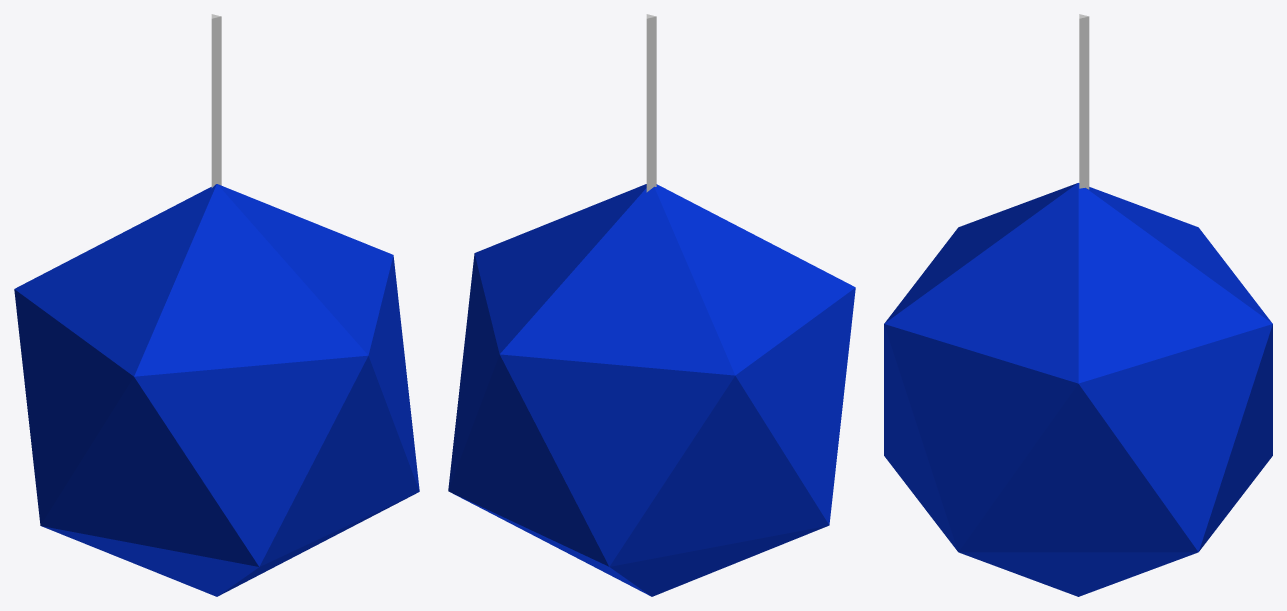
File: Baulble_2.fbx
3 views of the same model, side by side, from view 1: azimuth 30°, elevation 25°; view 2: azimuth 150°, elevation 25°; view 3: azimuth 270°, elevation 25° (orthographic).
Visible parts, largest first — view 1: Icosphere.001; view 2: Icosphere.001; view 3: Icosphere.001.
Part boxes in pixels (box(x1,y1,x2,y2)): Icosphere.001: box(14, 14, 419, 596); Icosphere.001: box(448, 14, 855, 596); Icosphere.001: box(884, 14, 1272, 596).
Bounding box in the file's own units: 11.54 × 18.08 × 10.97.
